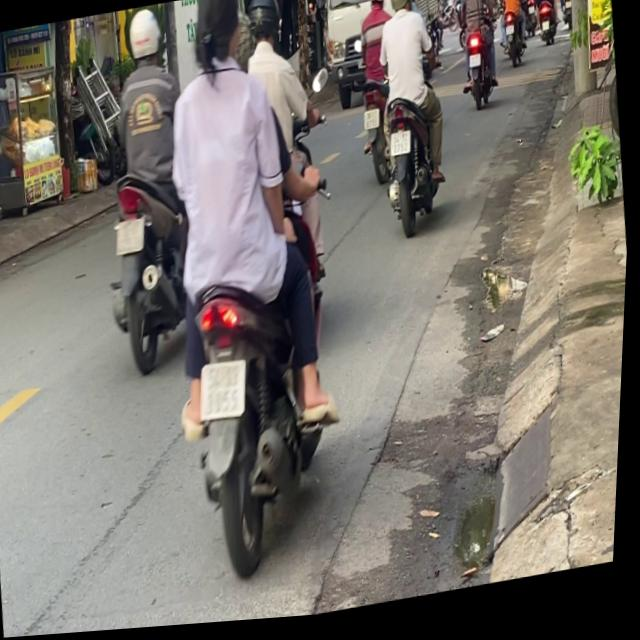helmet: (124, 6, 165, 73), (241, 0, 285, 59), (386, 0, 415, 20), (365, 0, 386, 17)
licenseplate: (125, 0, 377, 592), (80, 2, 212, 380), (362, 0, 462, 244), (344, 0, 408, 191), (446, 0, 505, 118)
motorcyclist: (187, 0, 248, 79)
nohelmet: (198, 360, 254, 425), (115, 220, 148, 257), (390, 137, 413, 162), (363, 113, 382, 135), (468, 59, 482, 74)
